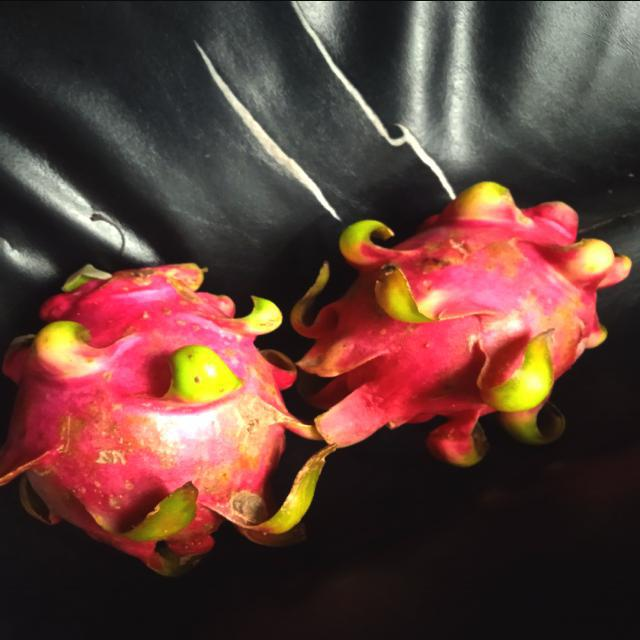do: (0, 258, 306, 584), (307, 178, 629, 468)
